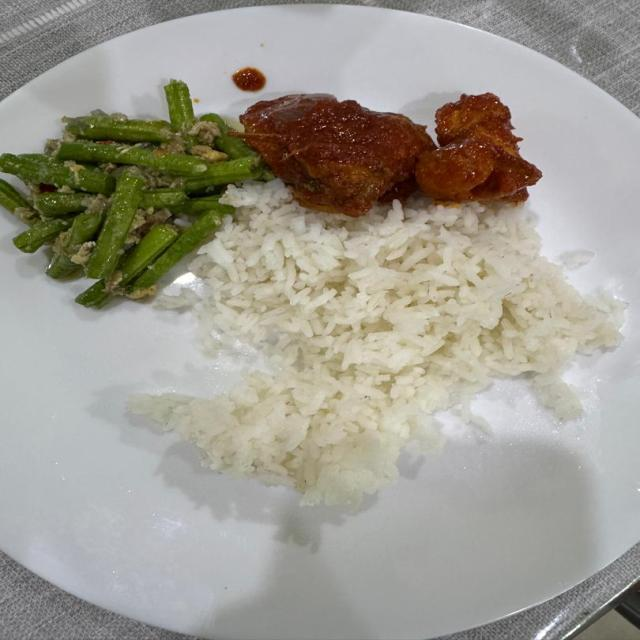Chicken: (246, 94, 540, 218)
Plate: (545, 170, 549, 179)
Rice: (132, 197, 626, 502)
Vegetables: (5, 77, 260, 308)
